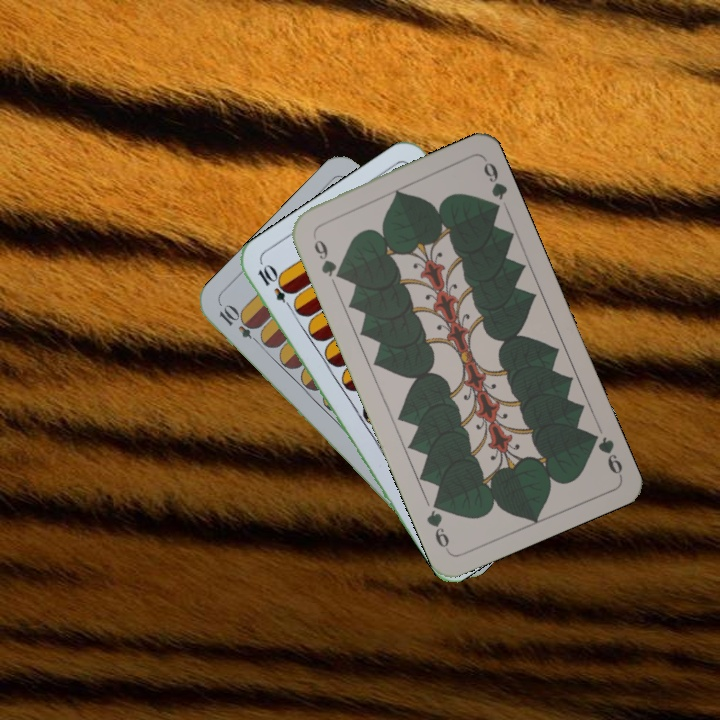E10: (215, 301, 266, 349), (253, 261, 298, 314)
G9: (584, 427, 626, 479), (308, 229, 345, 282)
